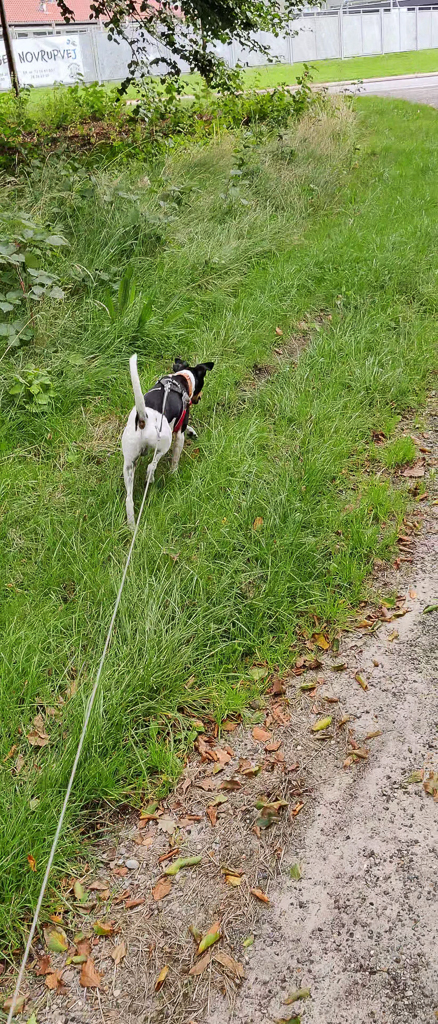Dog: (107, 340, 228, 541)
